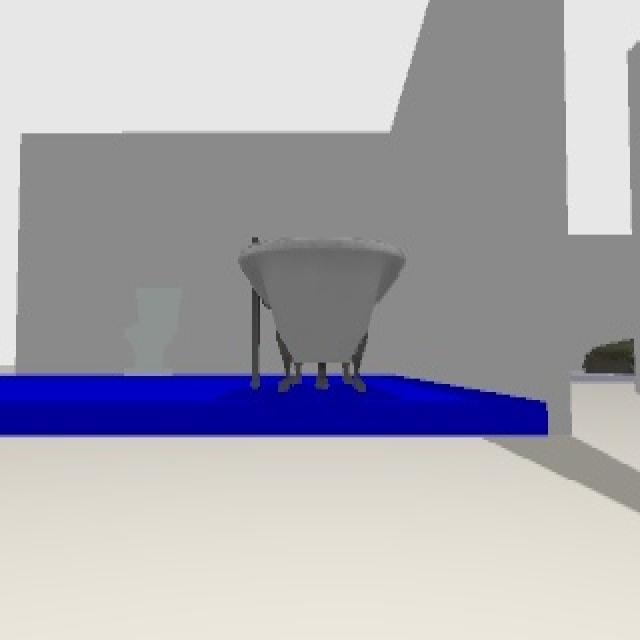bathtub: (236, 240, 408, 392), (0, 627, 8, 637)
